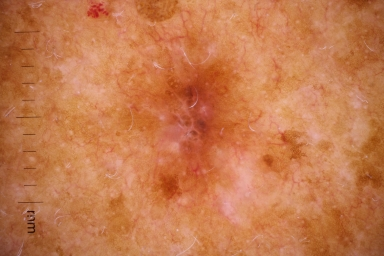nevus: (163, 85, 213, 160)
